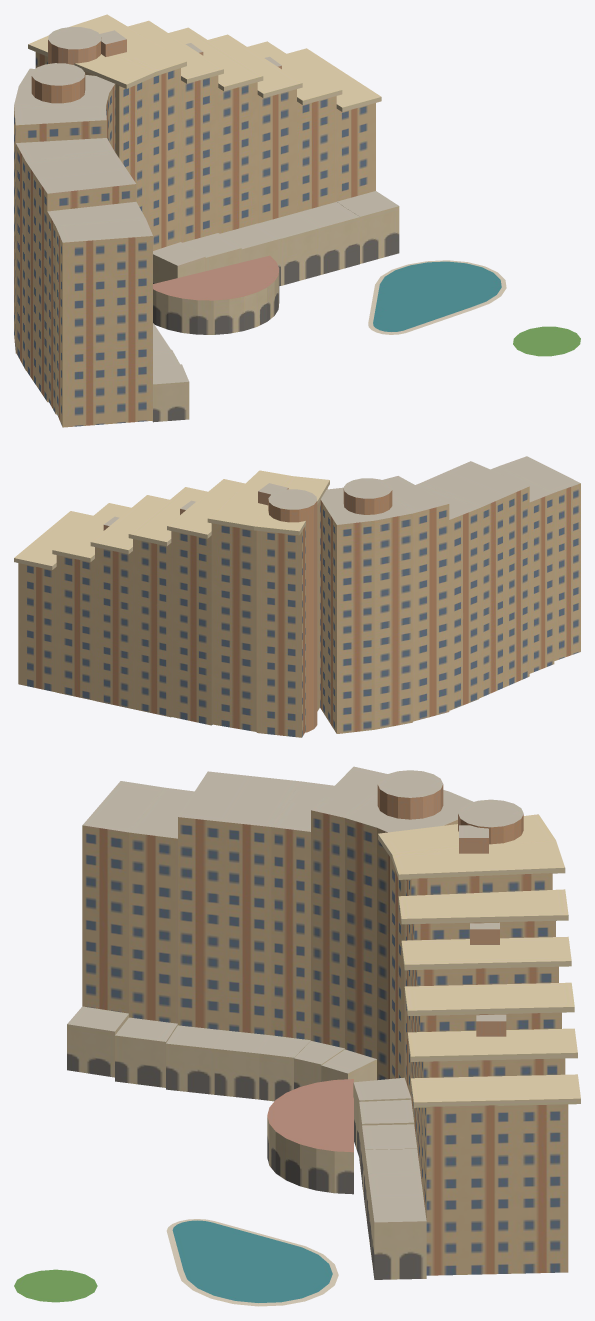
The model's file is libya_hotel.glb.
3 views of the same model, one above another, from view 1: azimuth 30°, elevation 25°; view 2: azimuth 150°, elevation 25°; view 3: azimuth 270°, elevation 25° (orthographic). The views are drawn at different scales.
Parts seen in each view (by area): view 1: Libya_Hotel; view 2: Libya_Hotel; view 3: Libya_Hotel.
Boxes of the visible parts, x1,y1,x2,y2 form: Libya_Hotel: (14,14,580,427); Libya_Hotel: (14,456,580,737); Libya_Hotel: (14,766,580,1306).
Bounding box in the file's own units: 0.35 × 0.1685 × 0.2866.
1 material, 1 textured.
